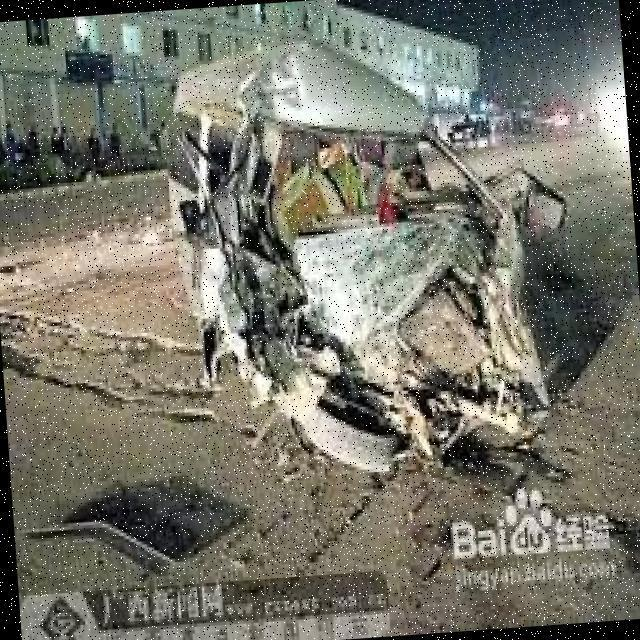accident: (134, 3, 600, 523)
